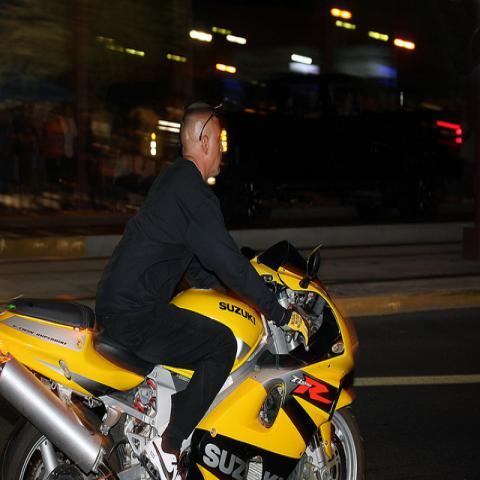motorcycle: (0, 238, 362, 477)
